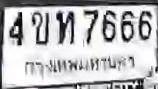4: (9, 12, 24, 46)
6: (102, 9, 117, 42), (121, 10, 135, 42), (139, 11, 152, 41)
7: (84, 9, 98, 44)
A02: (31, 11, 49, 45)
A23: (56, 11, 75, 45)
BKK: (20, 54, 138, 76)
